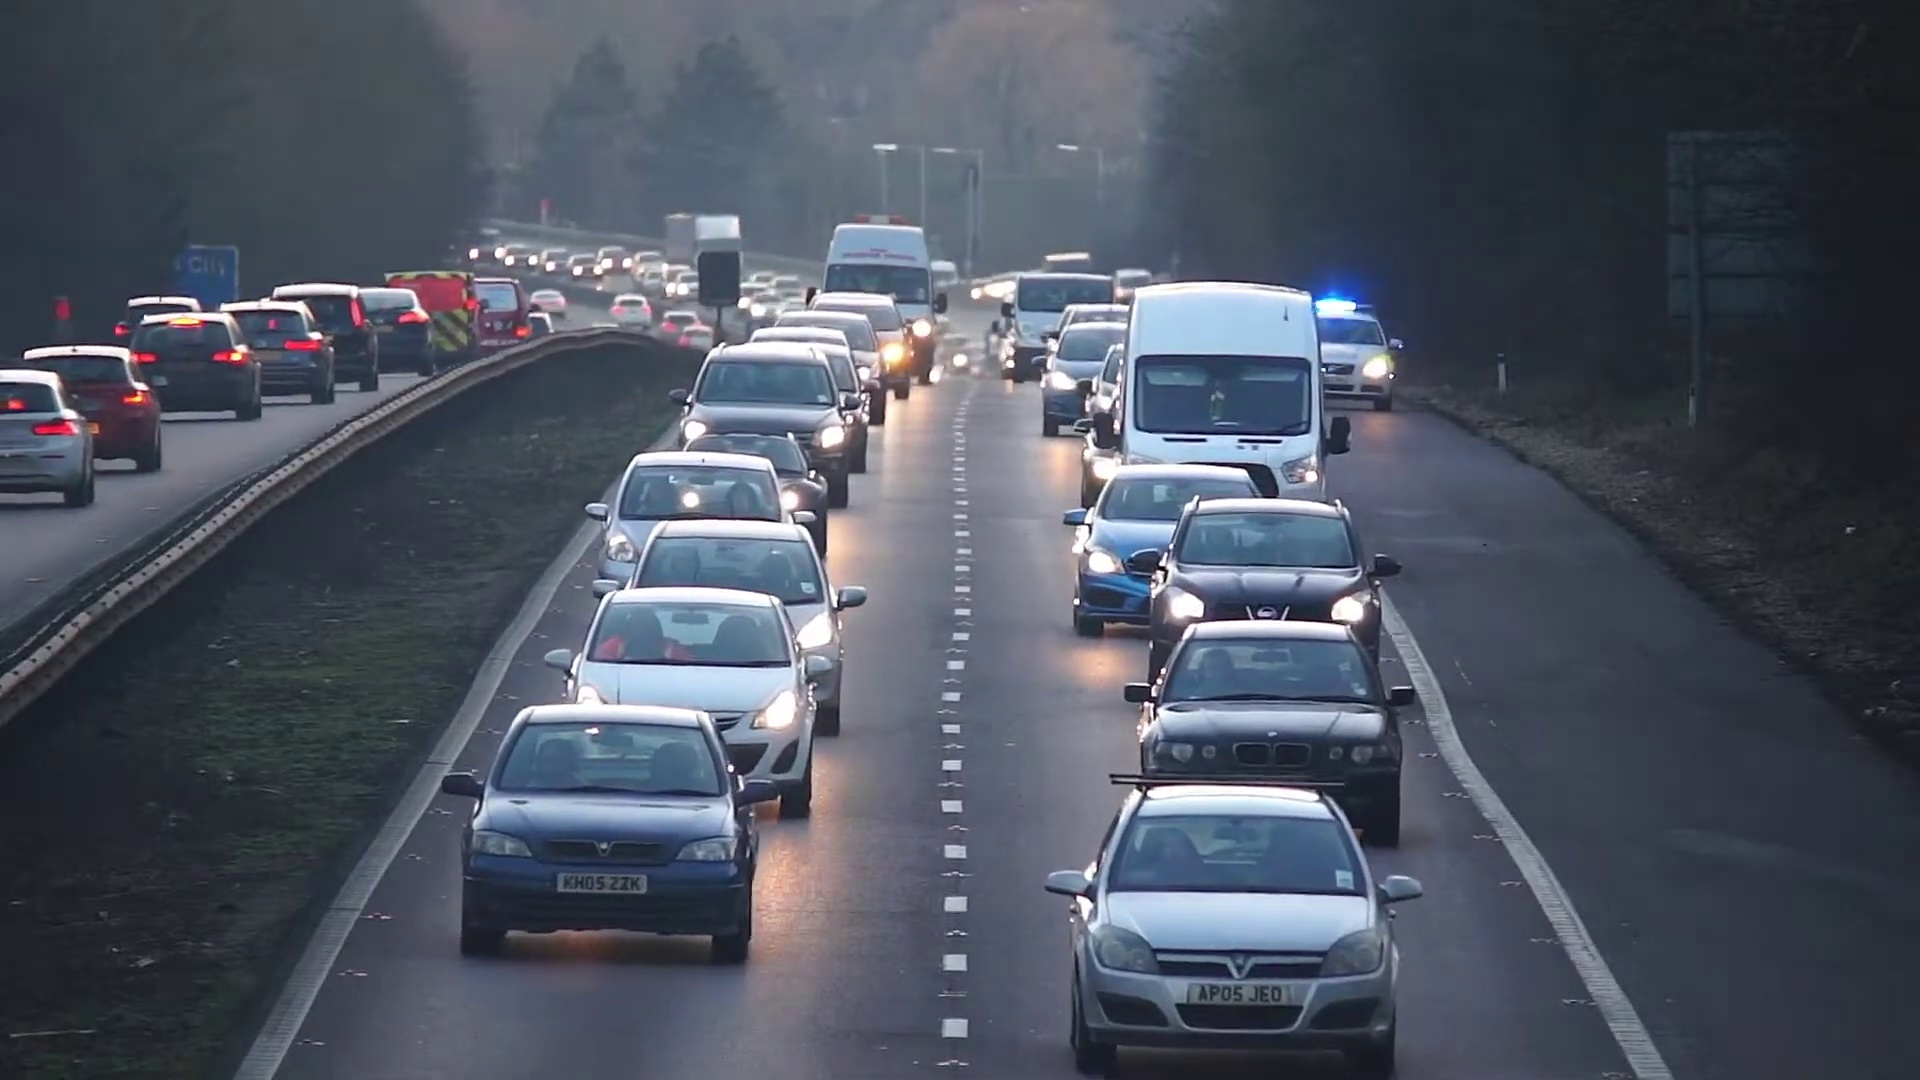license_plate: (1190, 982, 1290, 1009), (552, 872, 652, 895)
